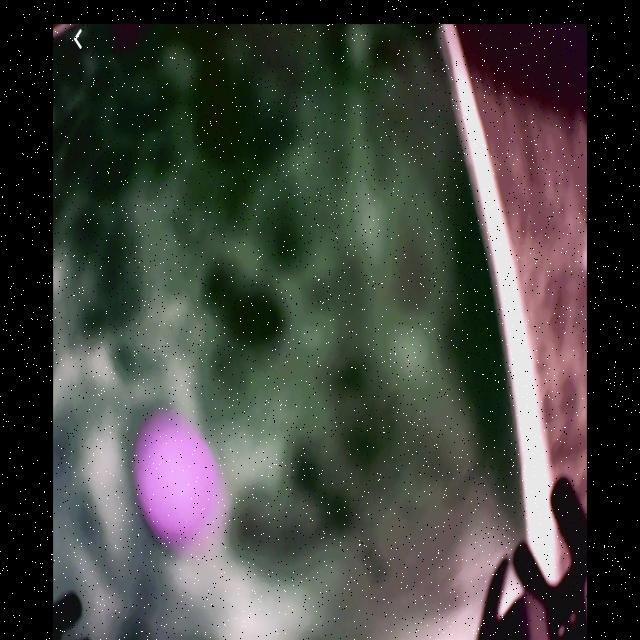ball: (138, 415, 216, 540)
